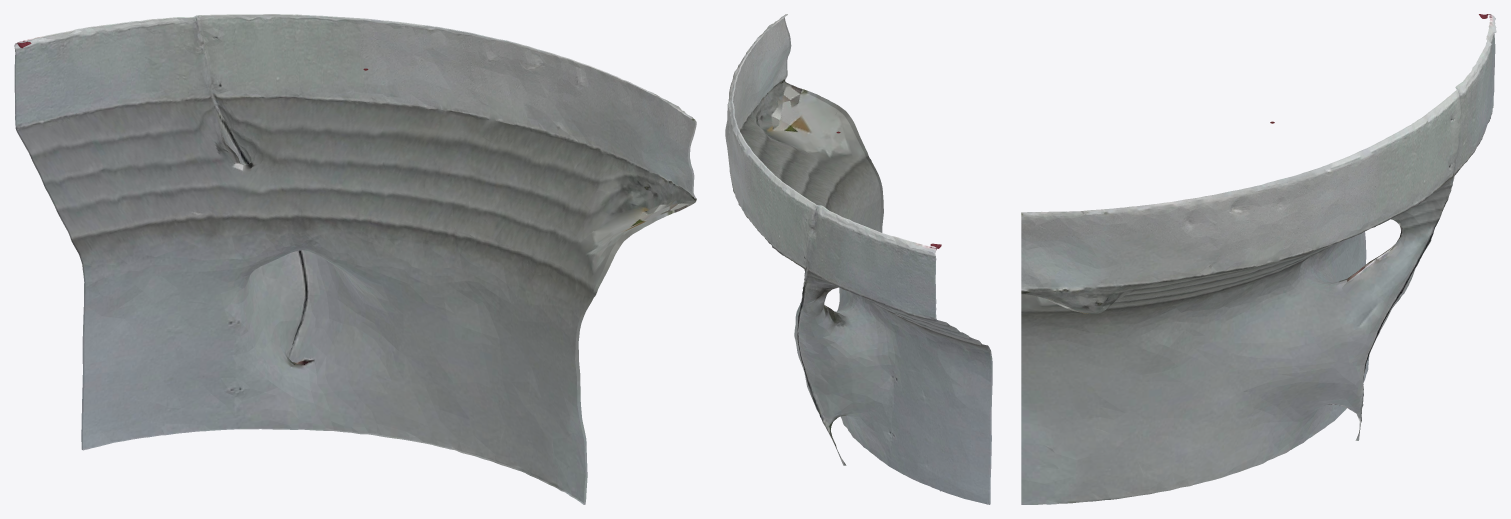
The picture shows the model from 3 angles, left to right: view 1: azimuth 30°, elevation 25°; view 2: azimuth 150°, elevation 25°; view 3: azimuth 270°, elevation 25°; orthographic projection. The views are drawn at different scales.
Visible parts, largest first — view 1: node_37; view 2: node_37; view 3: node_37.
Part boxes in pixels (bbox=[...]): node_37: bbox=[14, 14, 696, 504]; node_37: bbox=[725, 14, 992, 504]; node_37: bbox=[1021, 14, 1496, 504].
Size of the model in its own units: 2.36 by 1.87 by 2.36.
Materials: 1 (1 with a texture image).
